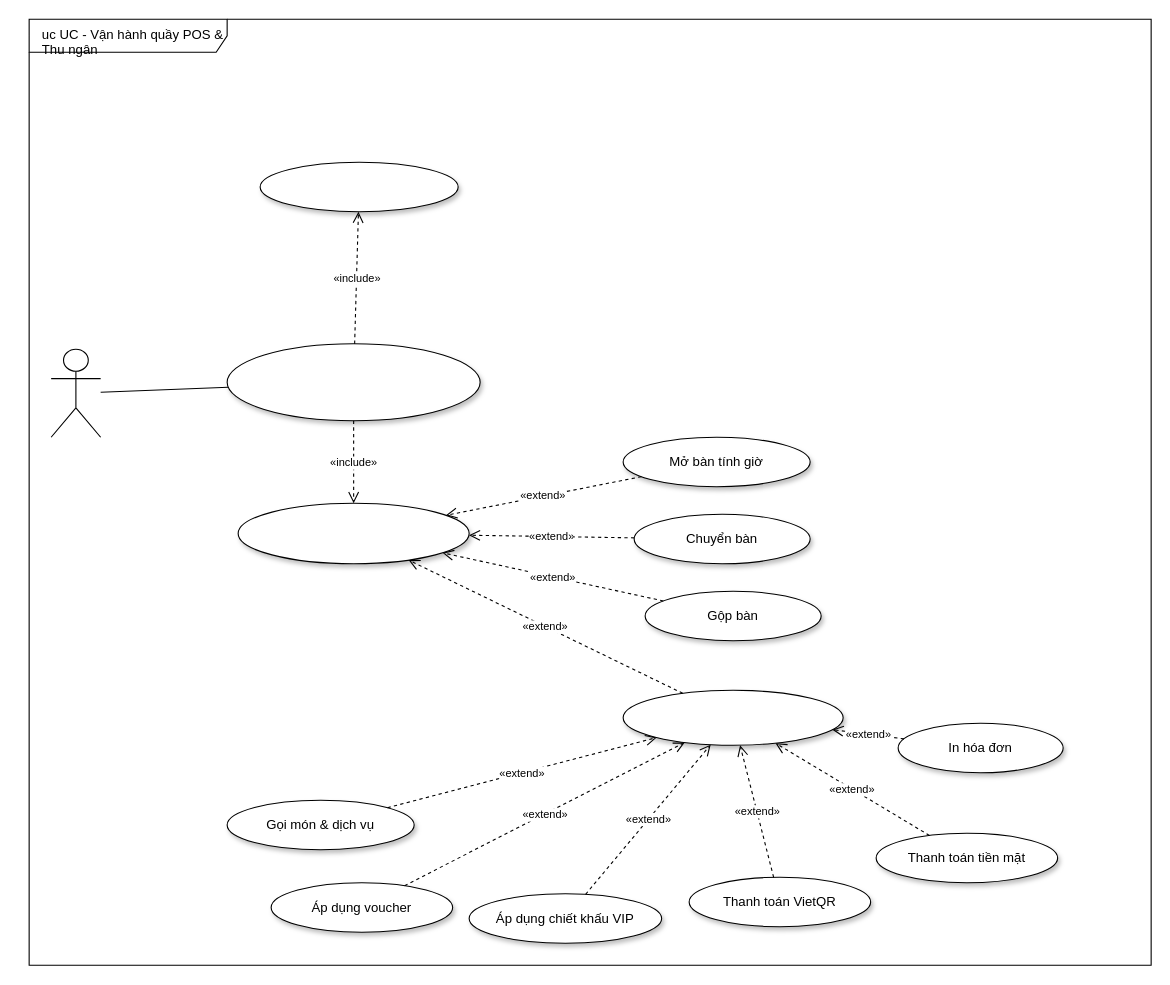
Image size: 1170x985. Some labels were removed from this diagram. The shapes that lost their labels are listed below. From the top down, each one's centre as x and y in pixels, then its label:
point 360,188: Đăng nhập
point 75,392: Nhân viên thu ngân
point 354,383: Vận hành quầy POS
point 354,534: Hiển thị sơ đồ bàn theo tầng
point 734,719: Xem chi tiết bàn & Thanh toán
